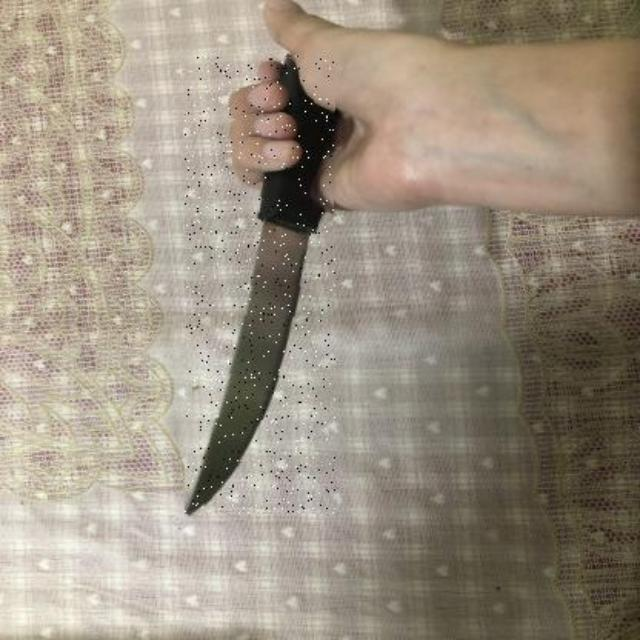Knife: (185, 54, 335, 514)
